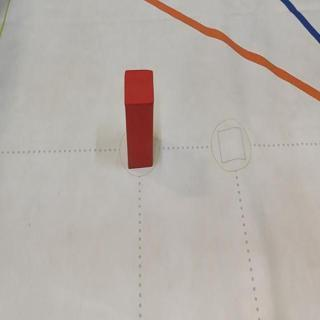redbox: (125, 69, 154, 169)
